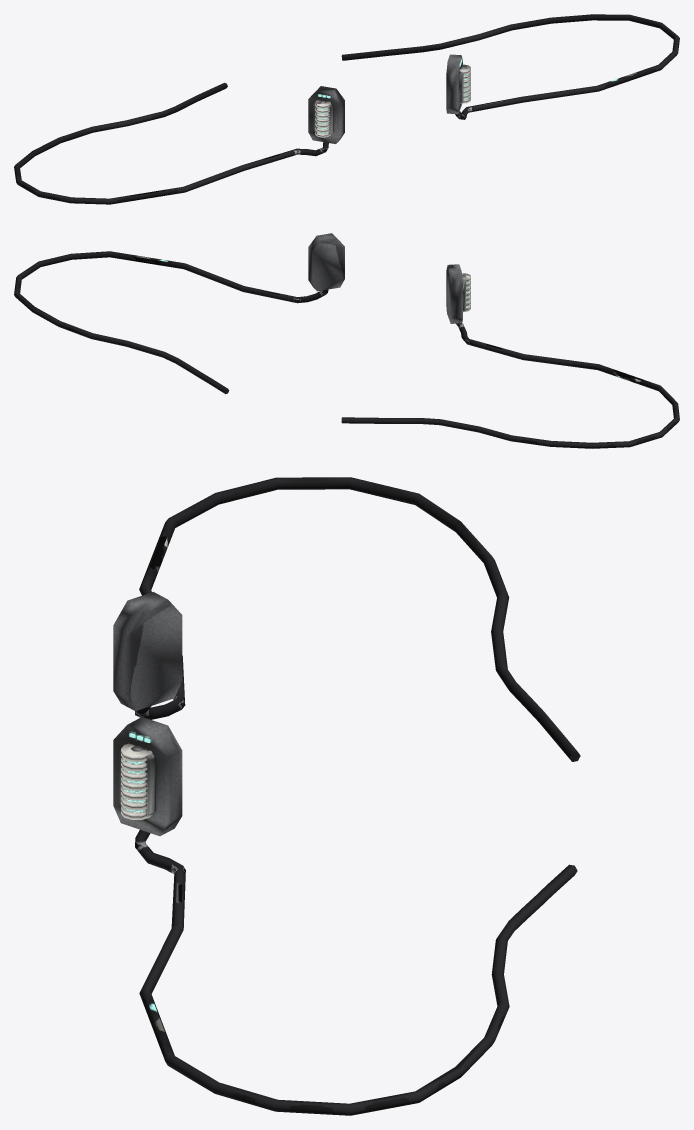
The model's file is sa2_synaptic_accelerator.gltf.
The picture shows the model from 3 angles, top to bottom: view 1: azimuth 30°, elevation 25°; view 2: azimuth 150°, elevation 25°; view 3: azimuth 270°, elevation 25°; orthographic projection. The views are drawn at different scales.
Parts seen in each view (by area): view 1: B_neck__sa2_synaptic_accelerator; view 2: B_neck__sa2_synaptic_accelerator; view 3: B_neck__sa2_synaptic_accelerator.
Part boxes in pixels (left/top/right/bottom): B_neck__sa2_synaptic_accelerator: left=14, top=14, right=679, bottom=204; B_neck__sa2_synaptic_accelerator: left=14, top=233, right=679, bottom=448; B_neck__sa2_synaptic_accelerator: left=113, top=477, right=580, bottom=1115.
Size of the model in its own units: 0.5376 by 0.0619 by 0.1682.
Materials: 1 (1 with a texture image).
